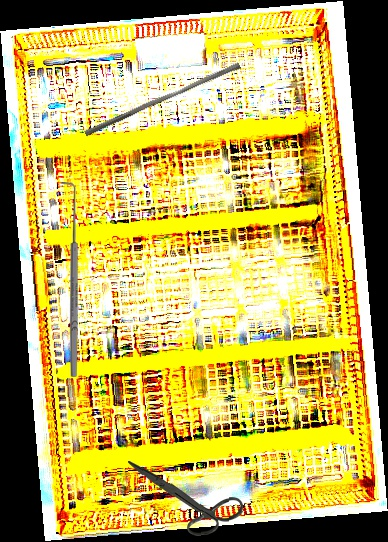Hook Surgical: (62, 182, 80, 377)
Iris Scissors: (127, 457, 245, 538)
Pusher: (83, 56, 242, 143)
